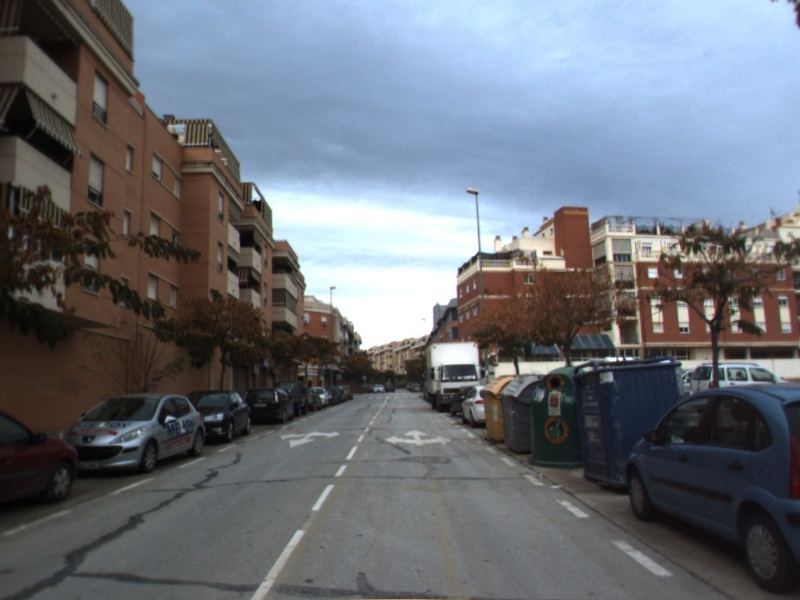STRAIGHT_LEFT_RIGHT: (382, 428, 454, 448)
